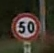limite 50: (10, 11, 41, 41)
